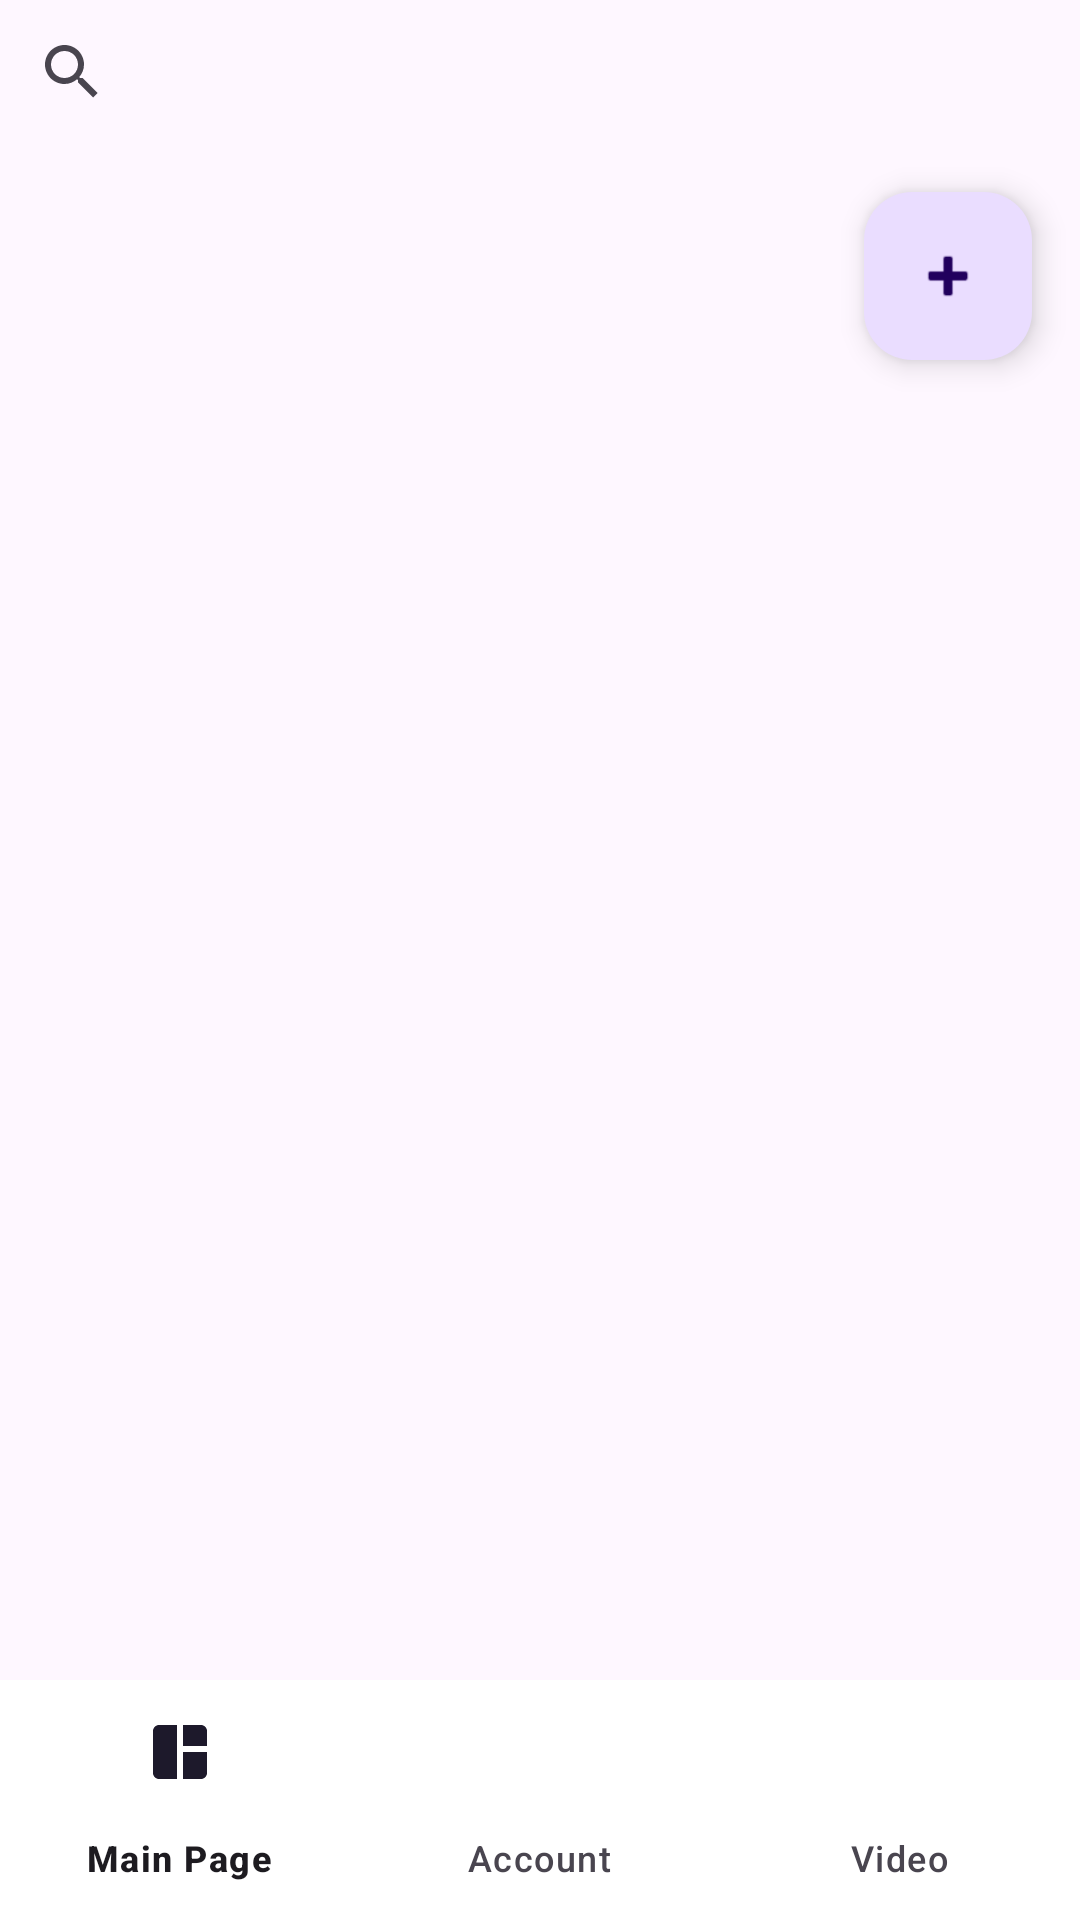

Icon bounding boxes for this 1080x1920 phone screenshot, format (x1=x1, y1=y1, x2=x2, y2=y2):
Add a board: (x1=864, y1=192, x2=1032, y2=360)
